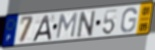5: (102, 8, 119, 36)
7: (19, 15, 36, 44)
A: (31, 14, 53, 43)
G: (119, 6, 138, 34)
M: (55, 11, 79, 40)
N: (76, 9, 97, 39)
